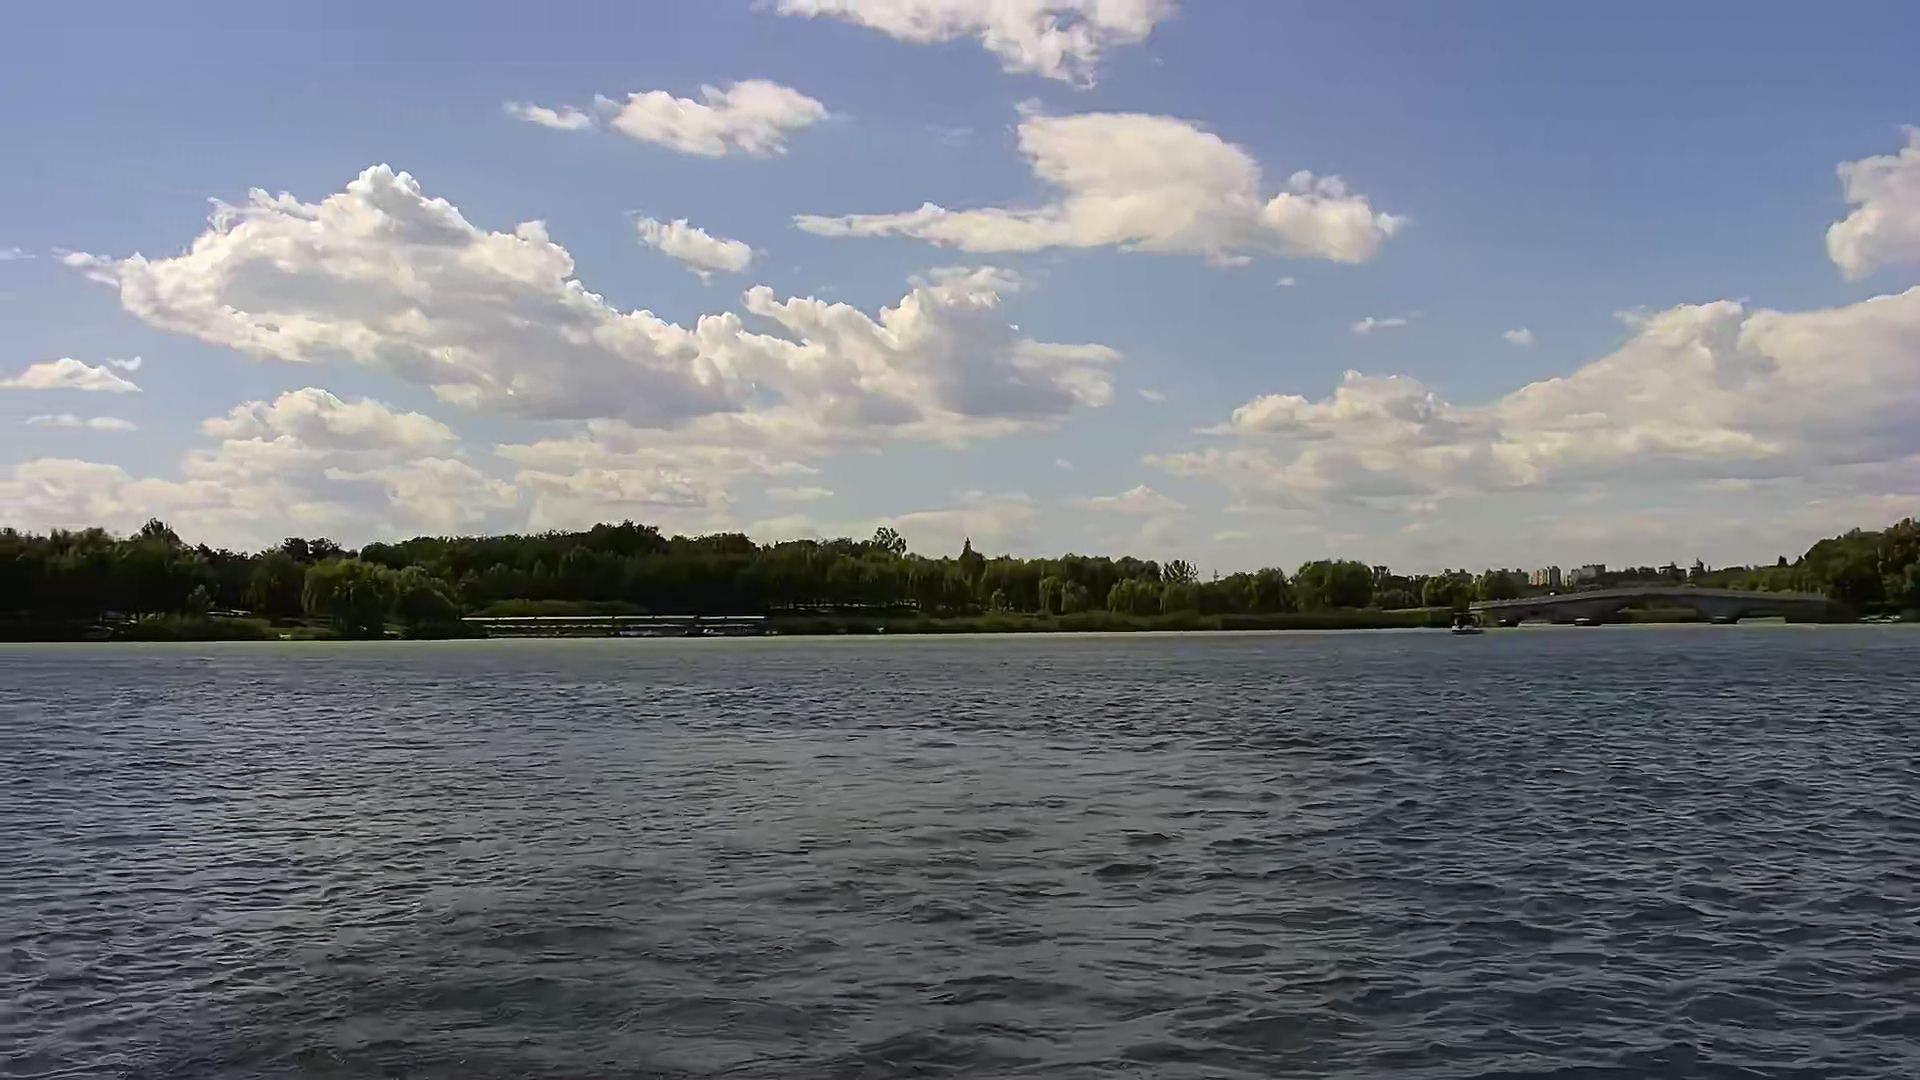boat: (1449, 613, 1490, 637)
bridge: (1473, 587, 1821, 622), (469, 612, 760, 637)
